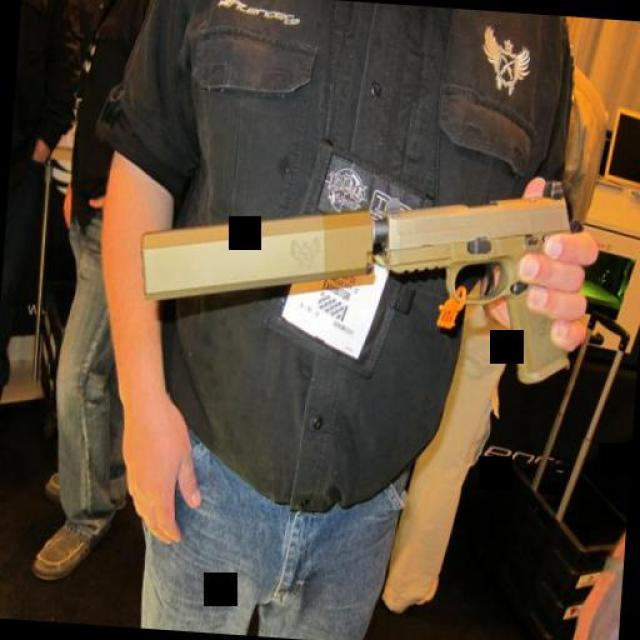gun: (362, 150, 592, 395)
